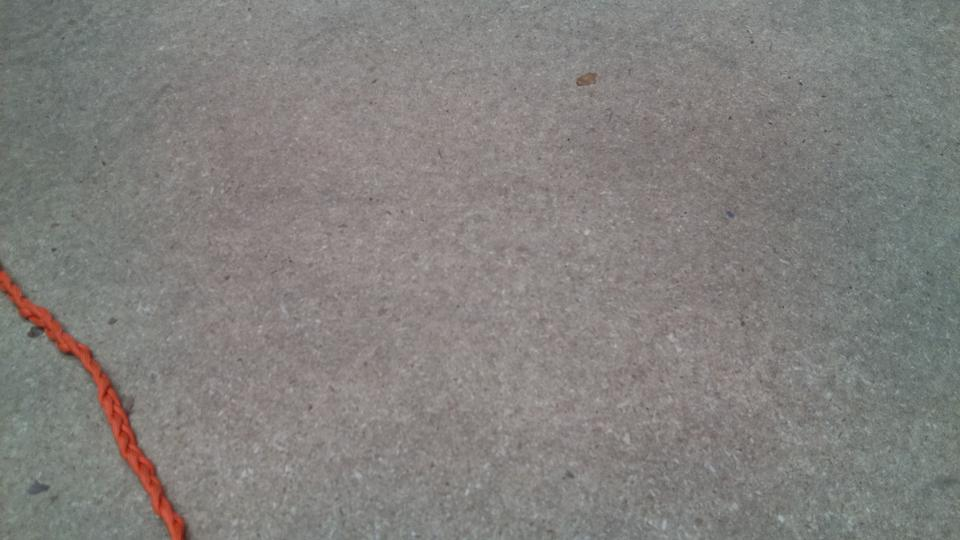rope: (1, 276, 183, 539)
